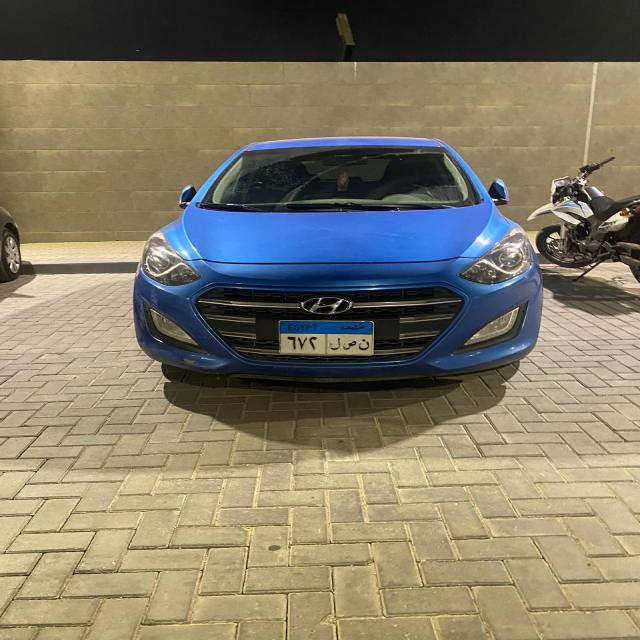car-plate: (281, 321, 371, 354)
